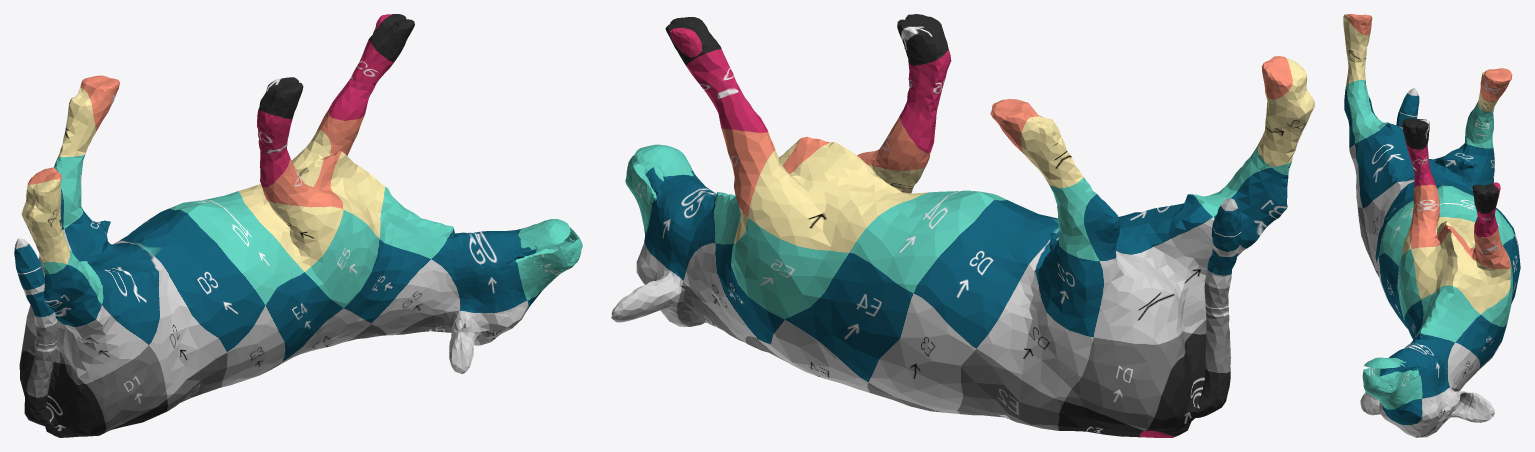
The model's file is horse_08-cow_03.obj.
The picture shows the model from 3 angles, left to right: view 1: azimuth 30°, elevation 25°; view 2: azimuth 150°, elevation 25°; view 3: azimuth 270°, elevation 25°; orthographic projection. The views are drawn at different scales.
Parts seen in each view (by area): view 1: horse_08-cow_03_export; view 2: horse_08-cow_03_export; view 3: horse_08-cow_03_export.
Part boxes in pixels (x1,y1,x2,y2): horse_08-cow_03_export: (14, 14, 582, 437); horse_08-cow_03_export: (611, 14, 1314, 437); horse_08-cow_03_export: (1343, 14, 1520, 437).
Bounding box in the file's own units: 1 × 0.5262 × 0.3449.
